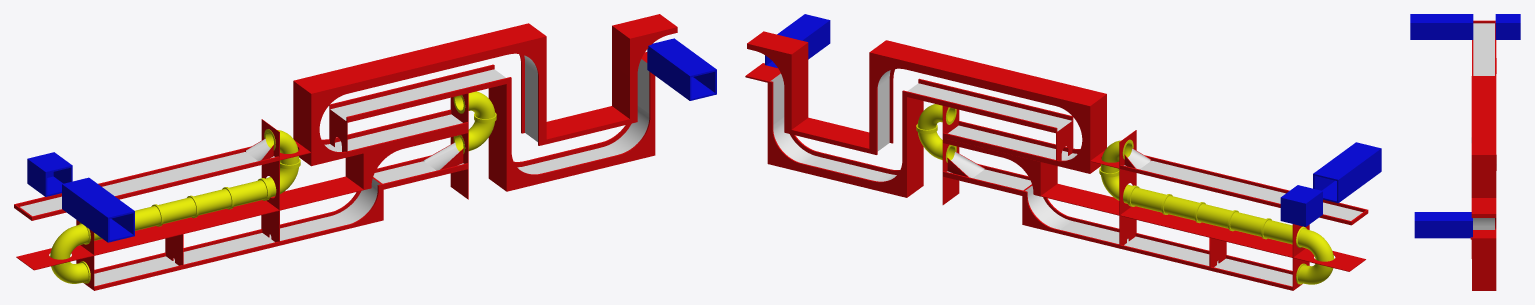
The model's file is Tunnel_Track.fbx.
The picture shows the model from 3 angles, left to right: view 1: azimuth 30°, elevation 25°; view 2: azimuth 150°, elevation 25°; view 3: azimuth 270°, elevation 25°; orthographic projection. The views are drawn at different scales.
Visible parts, largest first — view 1: Track_04, Track_05, Track_01, Track_Pipe_01, Floor_01, Track_08, Track_01.005, Track_01.004, Track_06, Vent_01, Vent_02, Track_07 (+5 smaller); view 2: Track_04, Track_05, Track_Pipe_01, Track_01, Floor_01, Track_08, Track_01.005, Track_01.004, Track_06, Vent_01, Track_07, Vent_03 (+5 smaller); view 3: Track_04, Vent_01, Vent_02, Track_08, Track_05, Track_06, Vent_03, Track_01.006.
Boxes of the visible parts, <box> form: Track_04: <box>293,23,546,166</box>; Track_05: <box>488,58,655,191</box>; Track_01: <box>84,177,383,290</box>; Track_Pipe_01: <box>49,129,300,283</box>; Floor_01: <box>16,176,363,270</box>; Track_08: <box>14,140,310,220</box>; Track_01.005: <box>329,64,511,122</box>; Track_01.004: <box>76,93,468,286</box>; Track_06: <box>612,14,677,123</box>; Vent_01: <box>62,177,134,242</box>; Vent_02: <box>647,38,716,100</box>; Track_07: <box>546,106,629,143</box>; Track_04: <box>869,40,1106,173</box>; Track_05: <box>767,72,923,197</box>; Track_Pipe_01: <box>1099,139,1334,284</box>; Track_01: <box>1022,184,1302,290</box>; Floor_01: <box>1040,183,1365,271</box>; Track_08: <box>1090,150,1368,225</box>; Track_01.005: <box>902,78,1073,133</box>; Track_01.004: <box>942,106,1309,290</box>; Track_06: <box>747,31,808,134</box>; Vent_01: <box>1313,142,1381,203</box>; Track_07: <box>791,117,869,153</box>; Vent_03: <box>1280,185,1322,226</box>; Track_04: <box>1471,76,1496,197</box>; Vent_01: <box>1410,14,1473,39</box>; Vent_02: <box>1414,212,1472,238</box>; Track_08: <box>1472,20,1496,75</box>; Track_05: <box>1471,228,1496,290</box>; Track_06: <box>1471,198,1496,258</box>; Vent_03: <box>1495,14,1520,39</box>; Track_01.006: <box>1470,230,1496,239</box>.
Bounding box in the file's own units: 35602 × 7659 × 7691.
